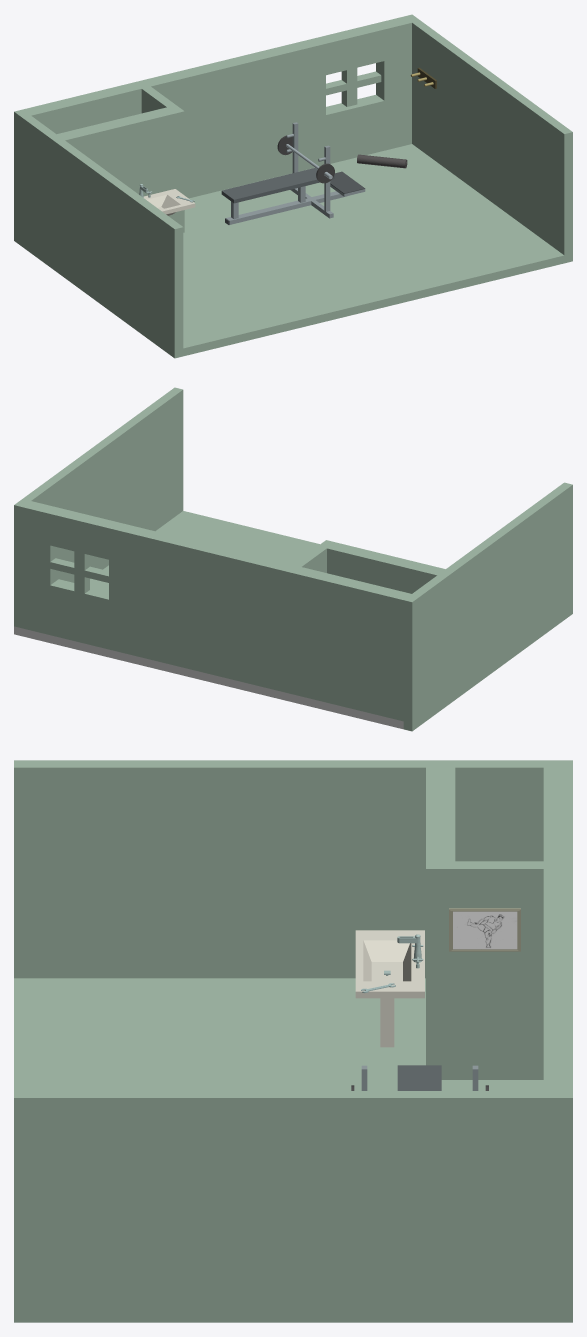
File: g_stage.gltf
3 views of the same model, one above another, from view 1: azimuth 30°, elevation 25°; view 2: azimuth 150°, elevation 25°; view 3: azimuth 270°, elevation 25° (orthographic). The views are drawn at different scales.
Parts seen in each view (by area): view 1: Gym, Press, Sink; view 2: Gym; view 3: Gym, Sink, Press.
Part boxes in pixels (x1,y1,x2,y2): Gym: (14, 14, 572, 358); Press: (221, 122, 365, 224); Sink: (139, 184, 195, 215); Gym: (14, 387, 572, 731); Gym: (14, 760, 572, 1322); Sink: (355, 930, 424, 1047); Press: (351, 1065, 488, 1090).
Bounding box in the file's own units: 10.45 × 3.24 × 7.31.
5 materials, 1 textured.
